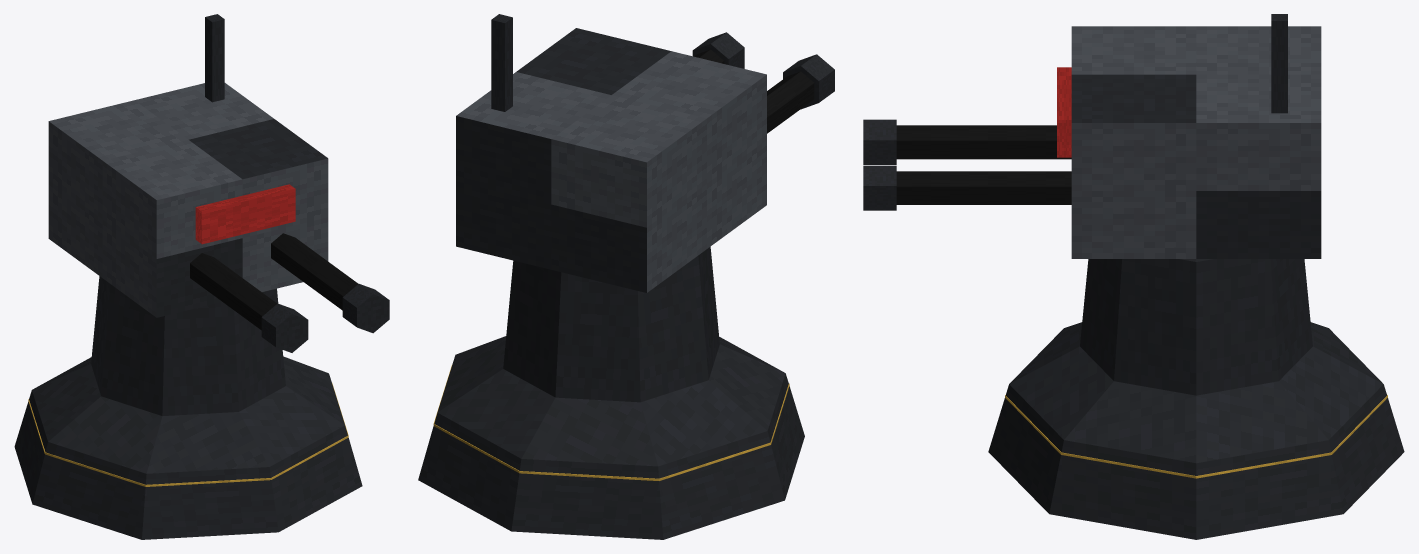
Rendered from enemy_turret.glb.
The picture shows the model from 3 angles, left to right: view 1: azimuth 30°, elevation 25°; view 2: azimuth 150°, elevation 25°; view 3: azimuth 270°, elevation 25°; orthographic projection. The views are drawn at different scales.
Visible parts, largest first — view 1: enemy_turret; view 2: enemy_turret; view 3: enemy_turret.
Boxes of the visible parts, x1=… form: enemy_turret: x1=14, y1=14, x2=389, y2=539; enemy_turret: x1=418, y1=14, x2=834, y2=539; enemy_turret: x1=863, y1=14, x2=1404, y2=539.
Size of the model in its own units: 1 by 1.25 by 1.3.
Materials: 2 (2 with a texture image).
